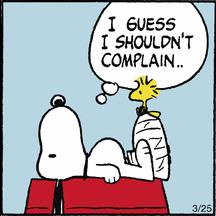snoopy: (33, 92, 171, 216)
